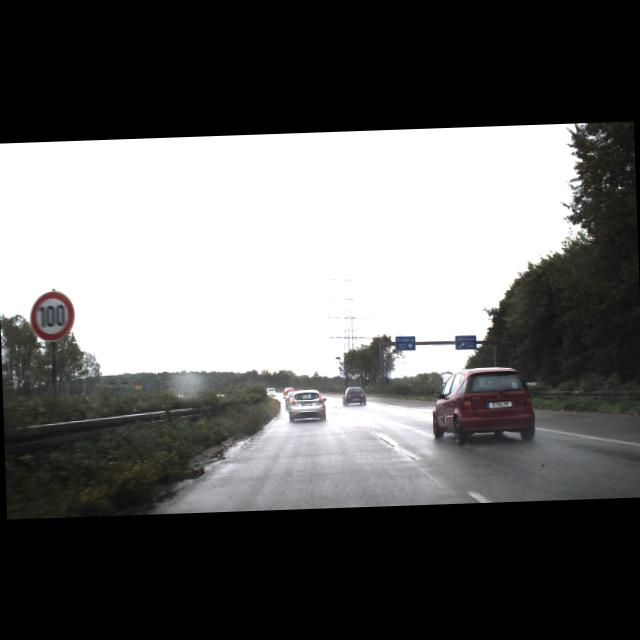prohibitory: (28, 288, 75, 342)
